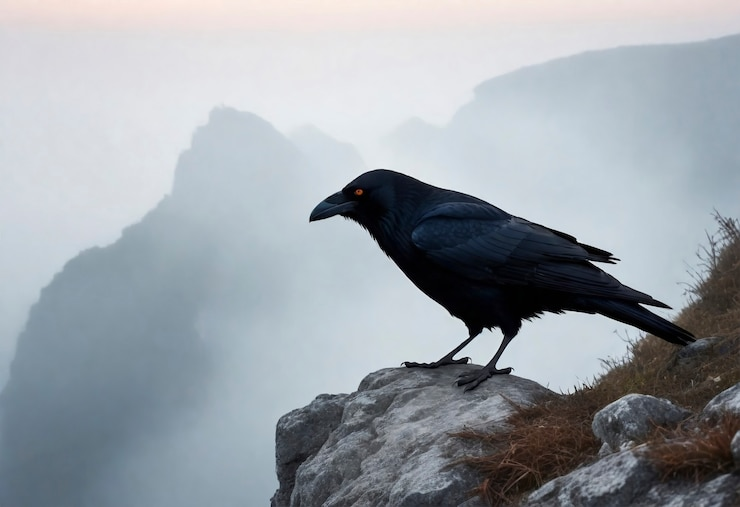ворон: (289, 136, 704, 386)
